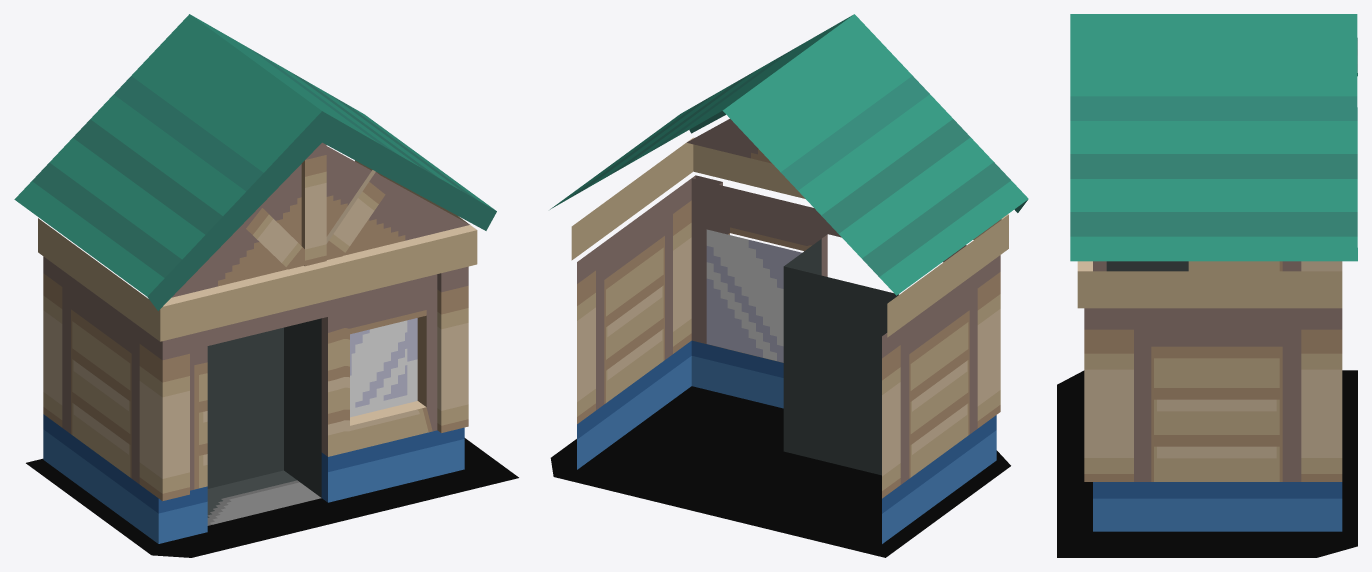
File: twinlife town house 1.glb
3 views of the same model, side by side, from view 1: azimuth 30°, elevation 25°; view 2: azimuth 150°, elevation 25°; view 3: azimuth 270°, elevation 25° (orthographic). The views are drawn at different scales.
Parts seen in each view (by area): view 1: Twinleaf Town House; view 2: Twinleaf Town House; view 3: Twinleaf Town House.
Part boxes in pixels (x1=…): Twinleaf Town House: x1=14, y1=14, x2=518, y2=557; Twinleaf Town House: x1=550, y1=14, x2=1028, y2=557; Twinleaf Town House: x1=1057, y1=14, x2=1357, y2=557.
Size of the model in its own units: 6.7 by 7.15 by 4.4.
Materials: 3 (3 with a texture image).
